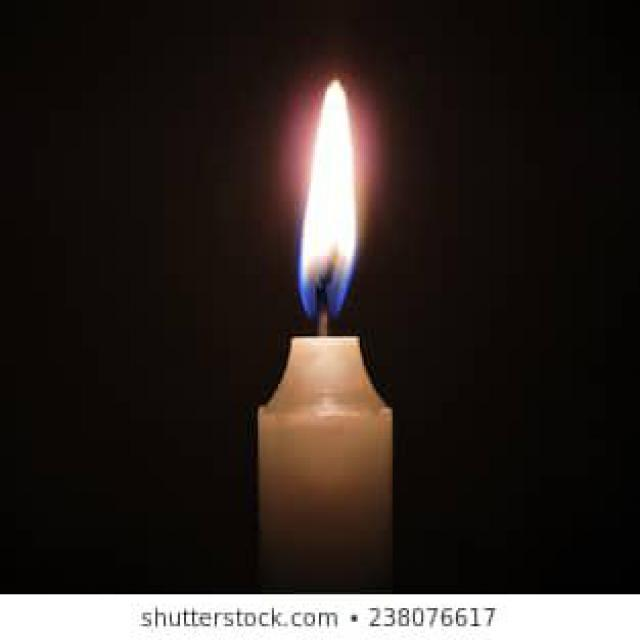Fire: (297, 77, 357, 316)
